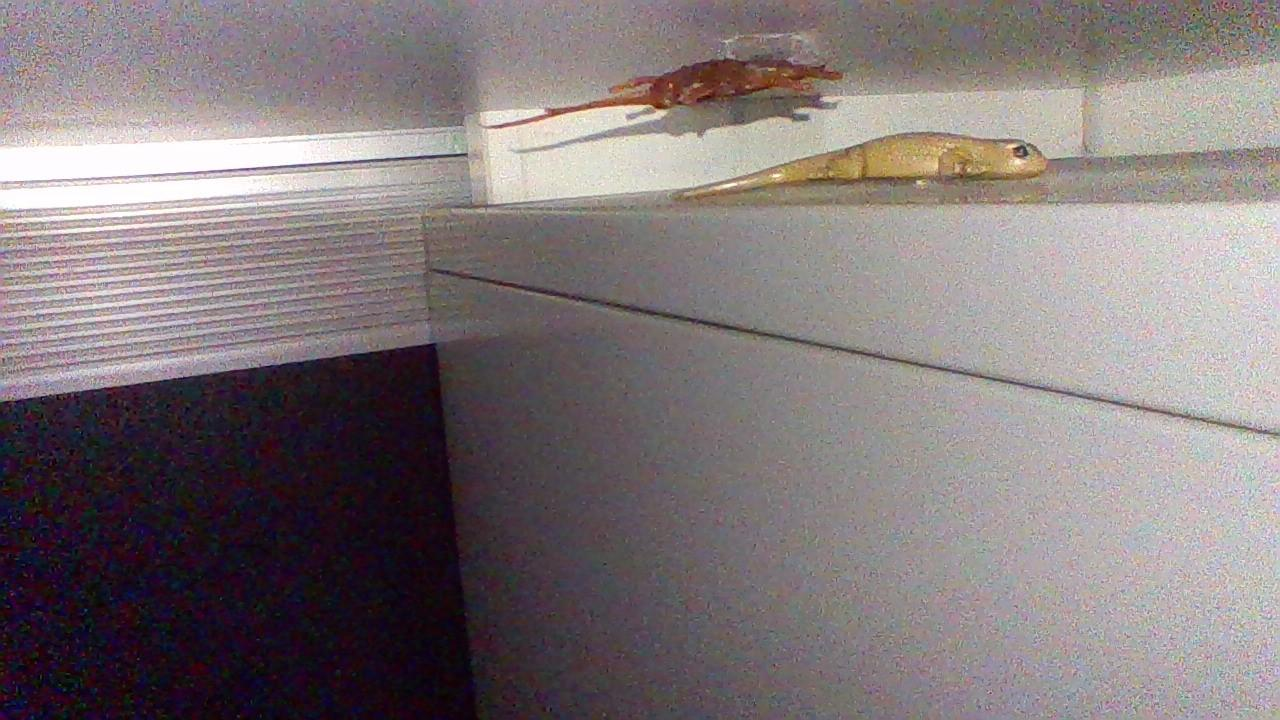cockroach: (434, 46, 876, 119)
lizard: (667, 126, 1092, 236)
